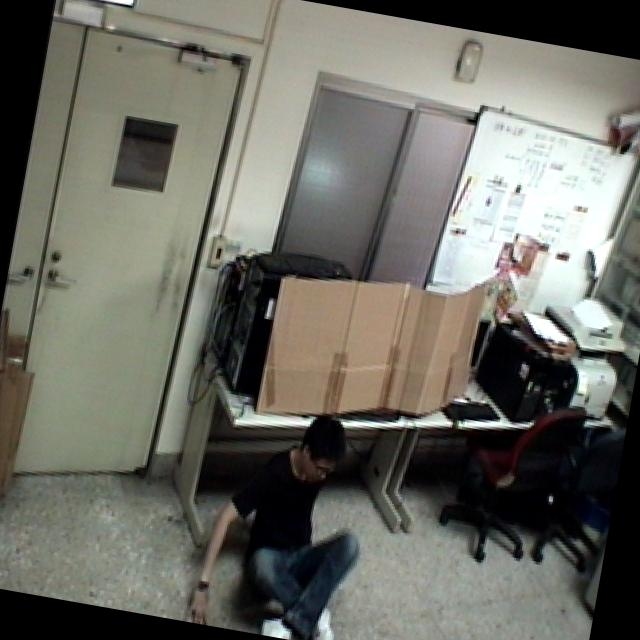sit: (171, 395, 386, 640)
